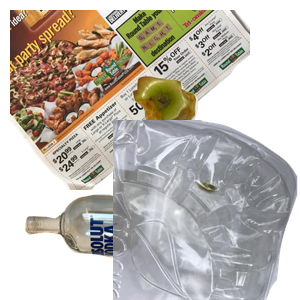glass: (22, 192, 234, 300)
paper: (10, 10, 250, 190)
plastic: (113, 120, 300, 300)
trash: (130, 74, 300, 199)
